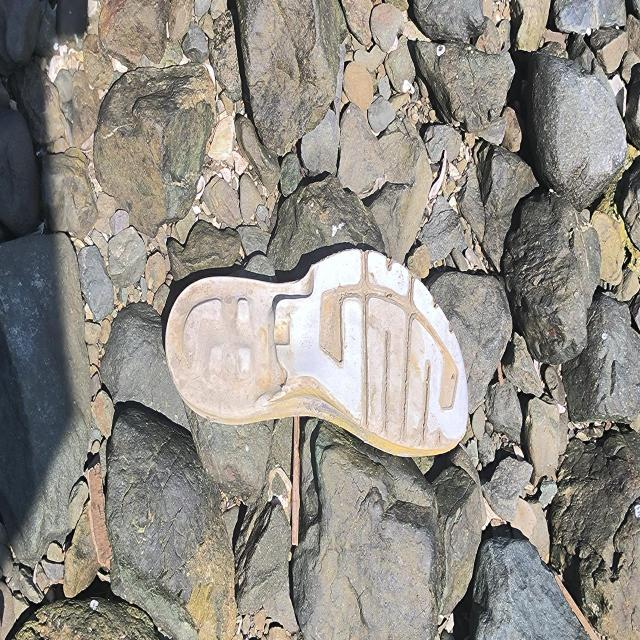rubber_waste: (165, 247, 470, 462)
